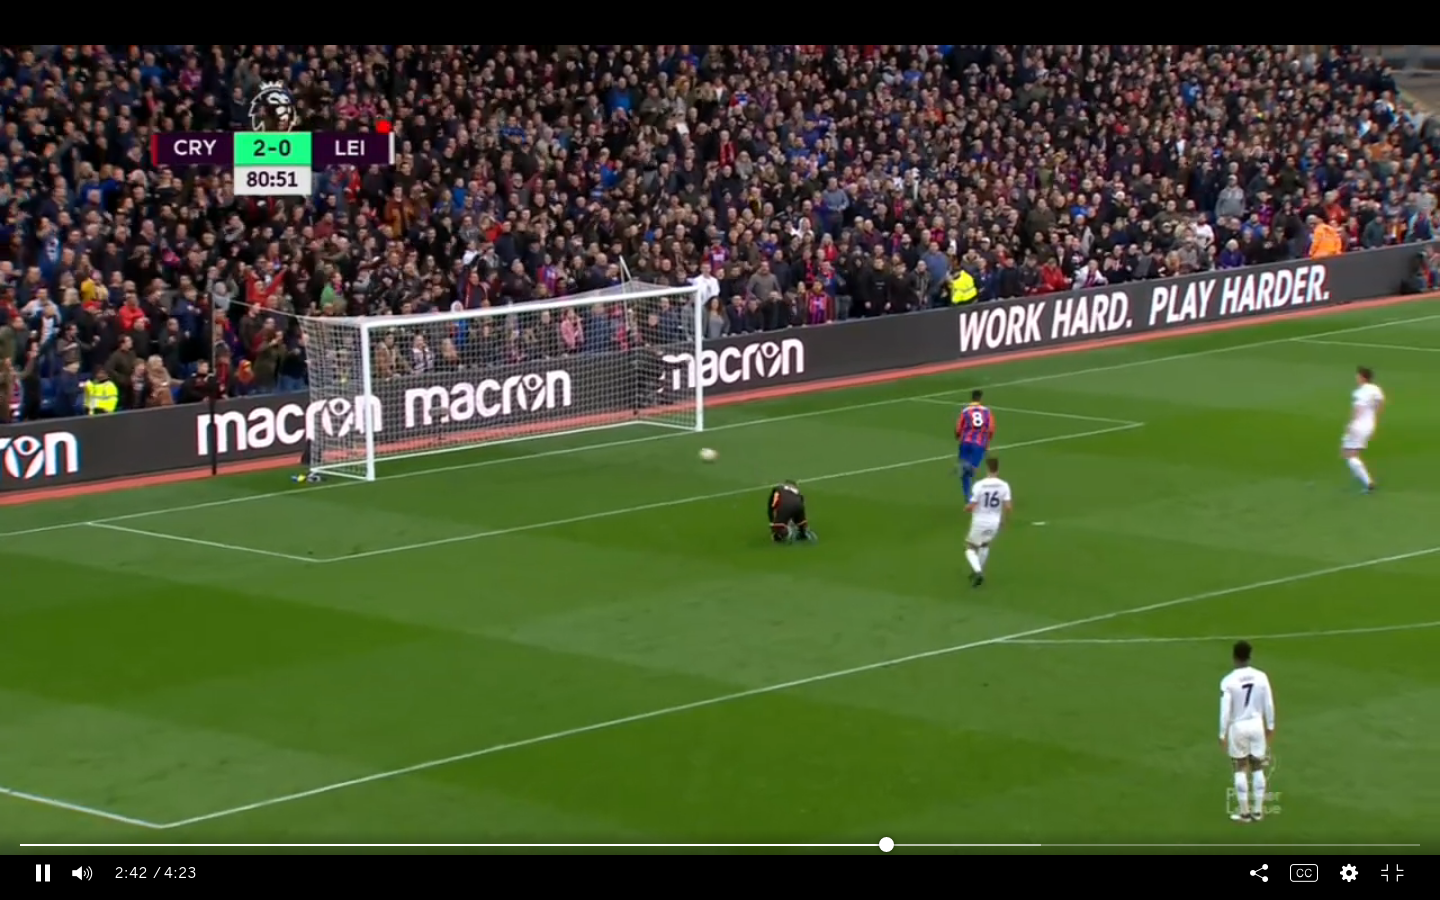soccer player: (1212, 636, 1282, 825), (956, 456, 1021, 591), (1336, 362, 1388, 503), (947, 386, 993, 496), (765, 472, 815, 549)
soccerball: (696, 443, 719, 465)
